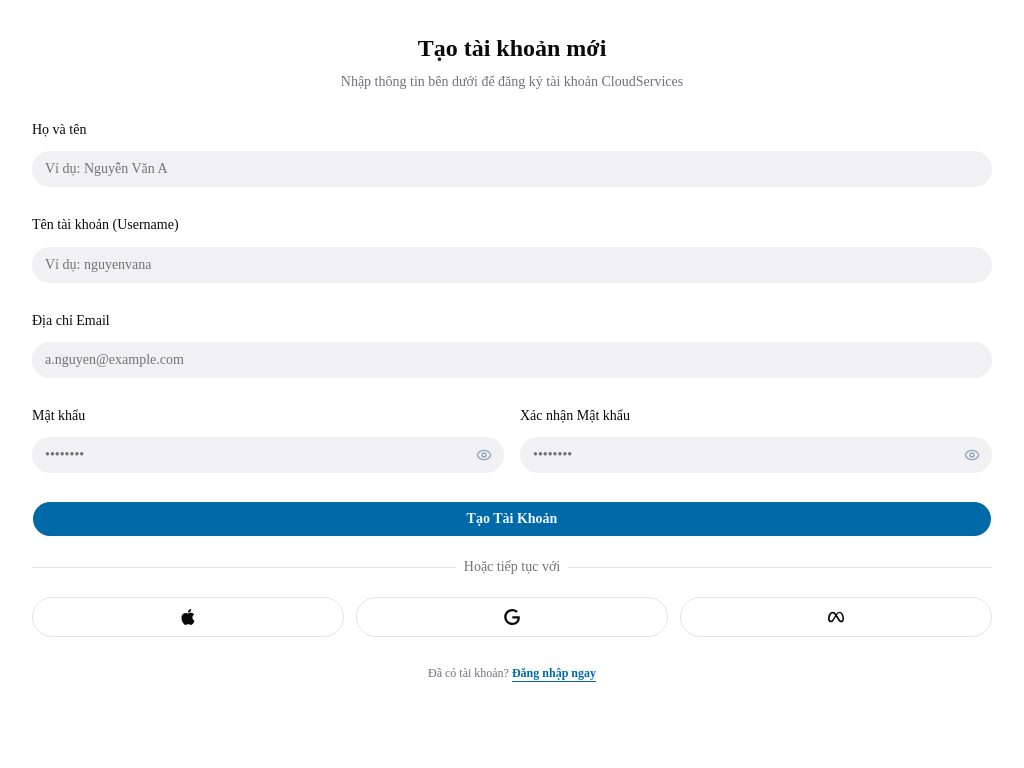
it: RegisterForm Component › should display error when invalid email is entered
Type "not-an-email" into the field labelled "Địa chỉ Email".
click(512, 360); type("not-an-email")  # box [32,342,992,378]
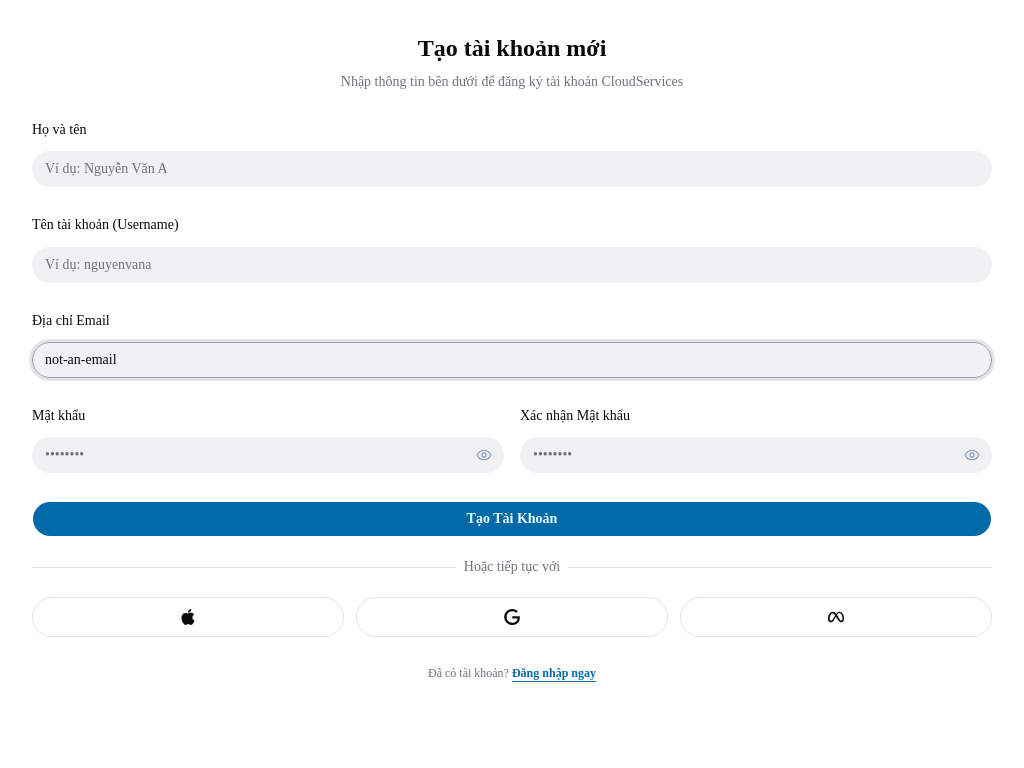
Click the button "Tạo Tài Khoản".
click(512, 519)  # box [32,501,992,537]
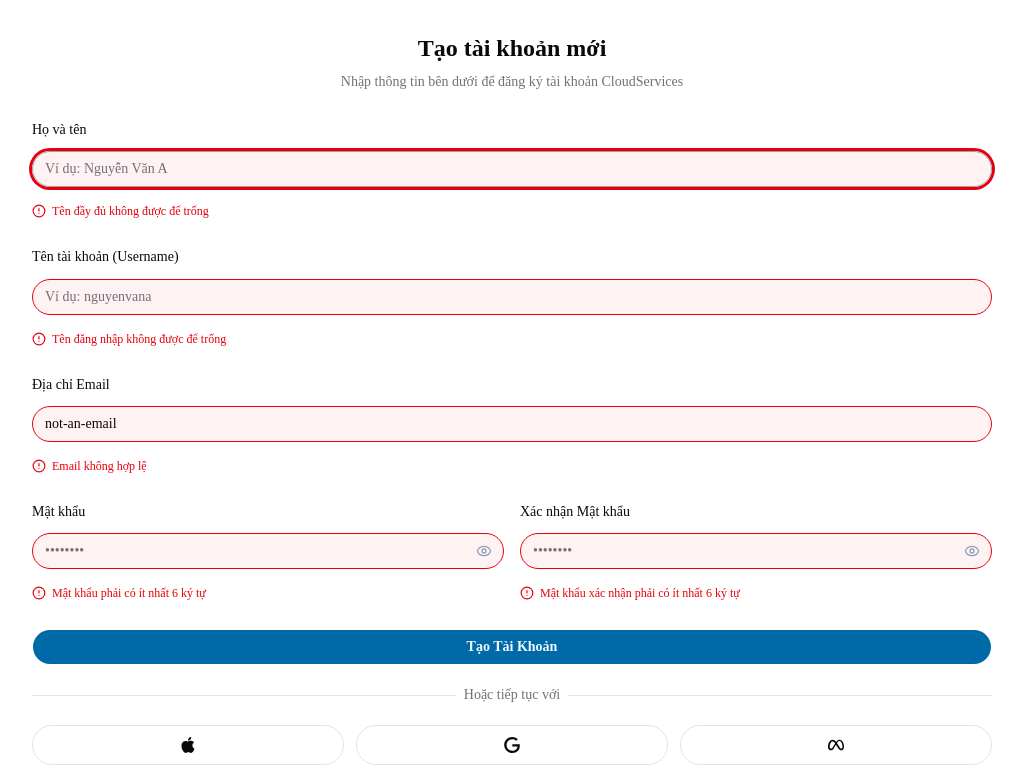
Expected: the text "Email không hợp lệ" is shown, [52,458,147,474]
